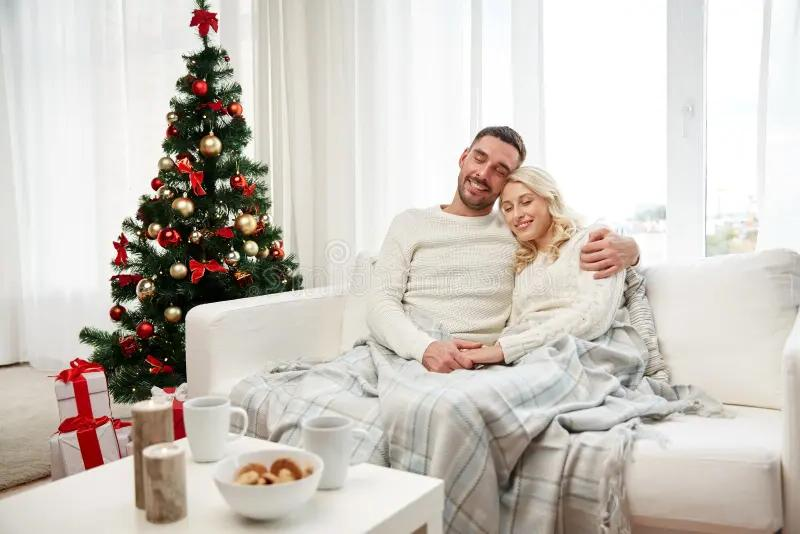blanket: (226, 315, 730, 534)
sweater: (364, 201, 522, 364), (498, 219, 628, 368)
